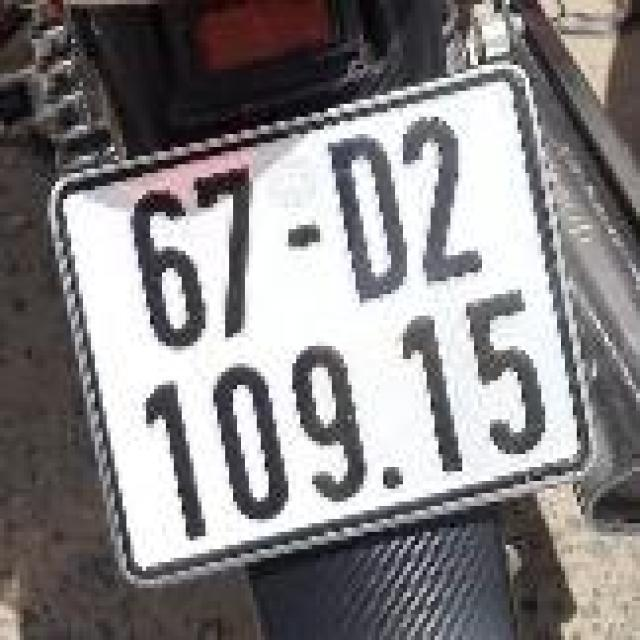0: (200, 348, 310, 533)
1: (129, 368, 224, 553), (387, 305, 483, 485)
2: (389, 97, 499, 299)
5: (458, 274, 562, 463)
6: (119, 177, 214, 357)
7: (188, 151, 264, 348)
9: (279, 326, 389, 514)
D: (313, 117, 422, 319)
